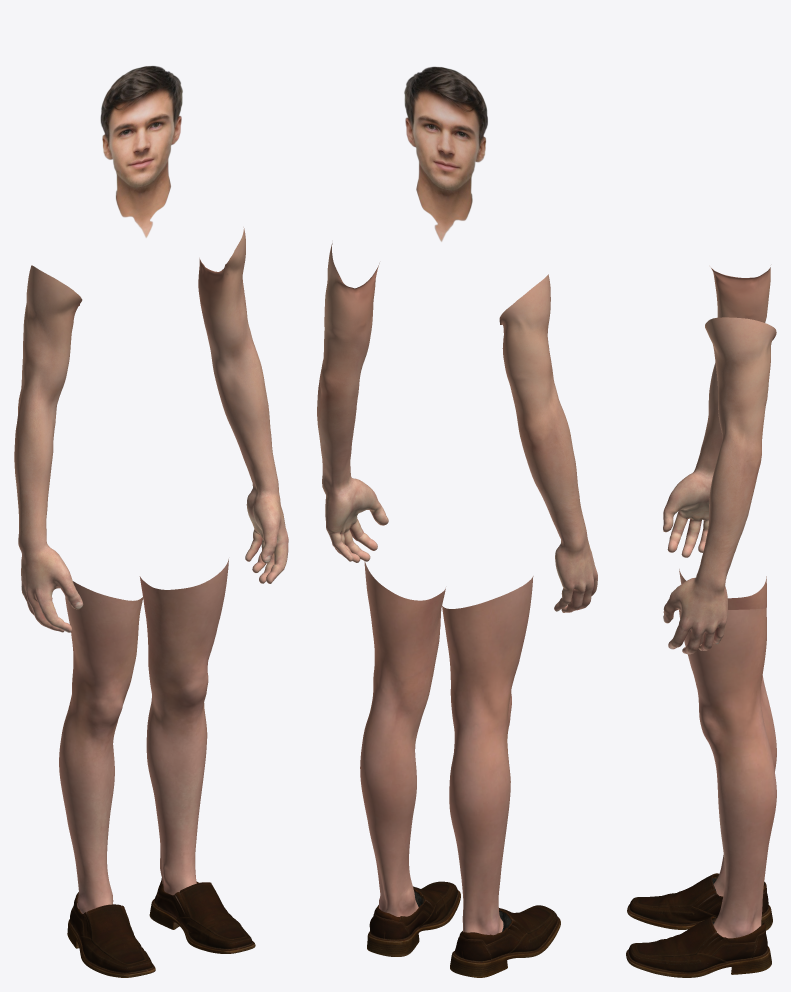
Rendered from male_model.glb.
The picture shows the model from 3 angles, left to right: view 1: azimuth 30°, elevation 25°; view 2: azimuth 150°, elevation 25°; view 3: azimuth 270°, elevation 25°; orthographic projection. The views are drawn at different scales.
Visible parts, largest first — view 1: body001_3, body_Node.001, face_plane, sh_oldOxfordShoeobjcleanermaterialmergergles; view 2: body001_3, body_Node.001, face_plane, sh_oldOxfordShoeobjcleanermaterialmergergles; view 3: body_Node.001, body001_3, sh_oldOxfordShoeobjcleanermaterialmergergles.
Boxes of the visible parts, x1,y1,x2,y2 form: body001_3: [59, 559, 228, 913]; body_Node.001: [14, 227, 288, 632]; face_plane: [100, 65, 182, 237]; sh_oldOxfordShoeobjcleanermaterialmergergles: [67, 878, 255, 977]; body001_3: [360, 559, 533, 935]; body_Node.001: [317, 243, 597, 612]; face_plane: [404, 66, 487, 241]; sh_oldOxfordShoeobjcleanermaterialmergergles: [367, 881, 560, 977]; body_Node.001: [663, 267, 776, 654]; body001_3: [679, 569, 776, 938]; sh_oldOxfordShoeobjcleanermaterialmergergles: [626, 873, 772, 977].
Size of the model in its own units: 59.17 by 197 by 30.66.
Materials: 4 (4 with a texture image).
